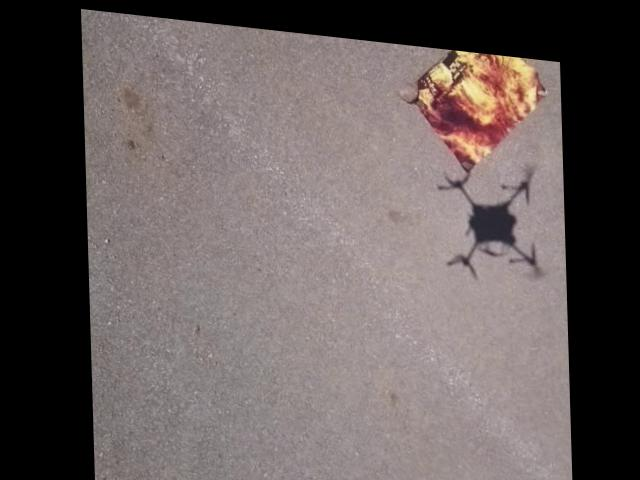fire-poster: (398, 35, 550, 171)
